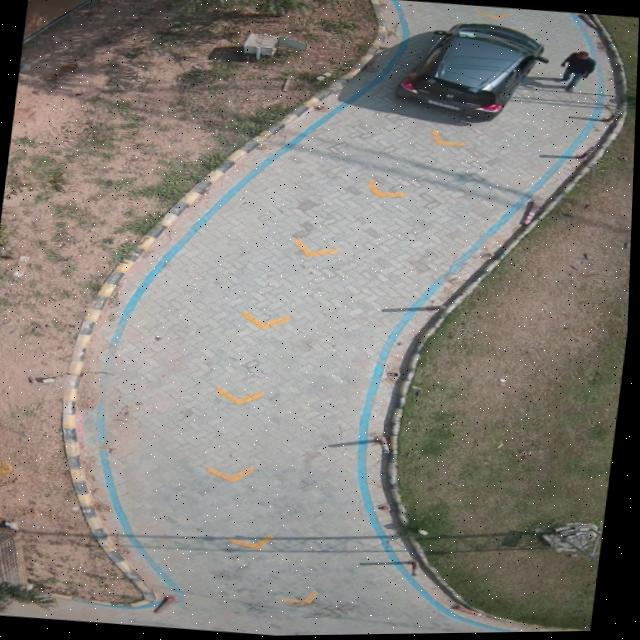car: (400, 25, 547, 123)
